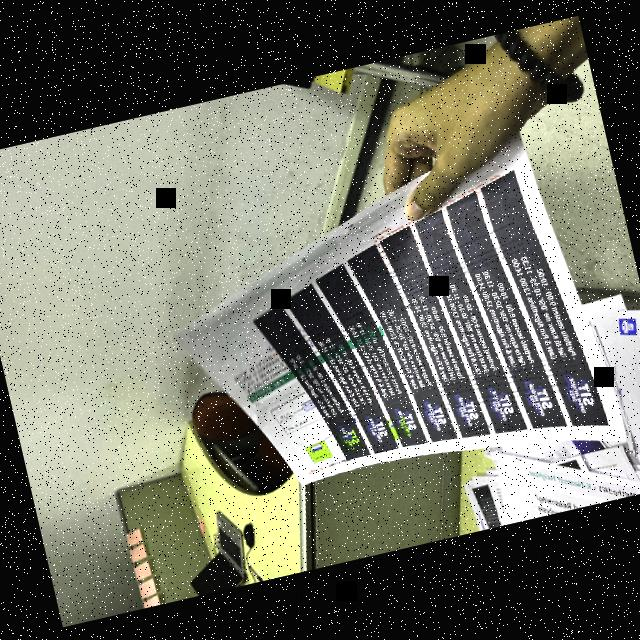reuseable_paper: (148, 115, 630, 534), (424, 277, 640, 531)
